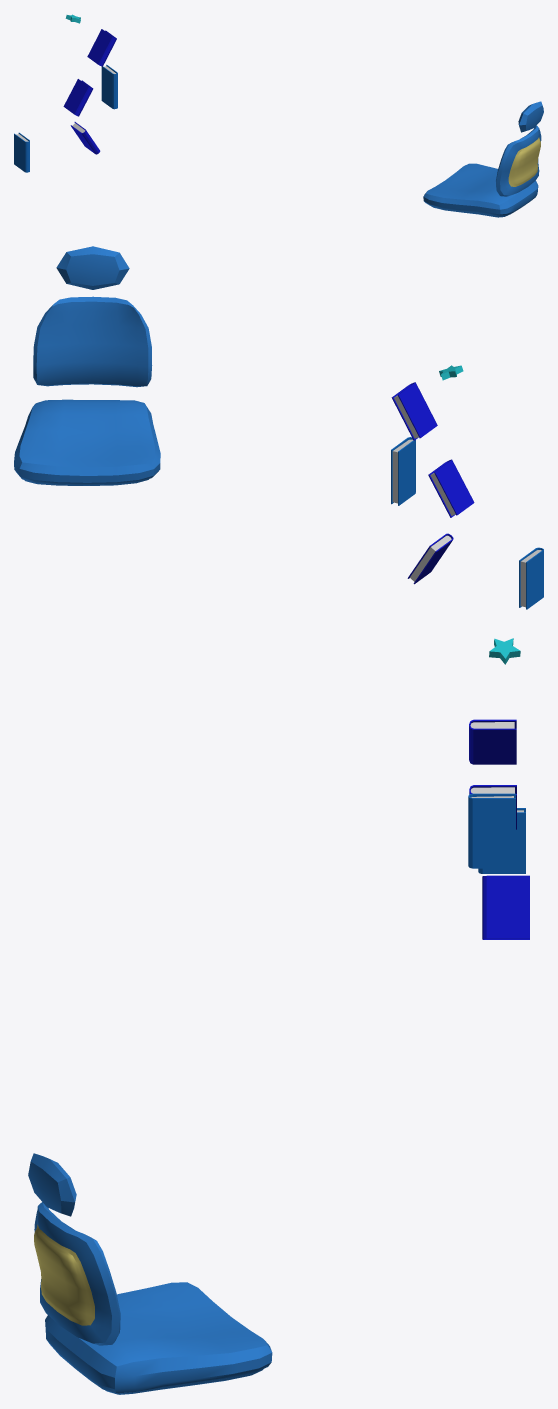
Rendered from room_escape_new_heavy_blue.obj.
3 views of the same model, one above another, from view 1: azimuth 30°, elevation 25°; view 2: azimuth 150°, elevation 25°; view 3: azimuth 270°, elevation 25° (orthographic). The views are drawn at different scales.
Parts seen in each view (by area): view 1: Cube.037_computer_chair, Cube.038_computer_chair, Cube.038_mihuangse, Cube.034_blue_book, Cube.030_heavy_blue, Cube.023_heavy_blue, Cube.039_computer_chair, Cube.009_blue_book, Cube.012_heavy_blue; view 2: Cube.037_computer_chair, Cube.038_computer_chair, Cube.039_computer_chair, Cube.023_heavy_blue, Cube.030_heavy_blue, Cube.034_blue_book, Cube.009_blue_book, Cube.012_heavy_blue; view 3: Cube.037_computer_chair, Cube.038_computer_chair, Cube.034_blue_book, Cube.038_mihuangse, Cube.012_heavy_blue, Cube.039_computer_chair, Cube.023_heavy_blue.
Boxes of the visible parts, left/top/right/bottom form: Cube.037_computer_chair: left=423, top=163, right=538, bottom=217; Cube.038_computer_chair: left=496, top=125, right=541, bottom=196; Cube.038_mihuangse: left=508, top=137, right=540, bottom=186; Cube.034_blue_book: left=101, top=64, right=117, bottom=109; Cube.030_heavy_blue: left=63, top=79, right=93, bottom=116; Cube.023_heavy_blue: left=87, top=29, right=116, bottom=66; Cube.039_computer_chair: left=518, top=101, right=543, bottom=132; Cube.009_blue_book: left=14, top=132, right=29, bottom=172; Cube.012_heavy_blue: left=70, top=122, right=100, bottom=154; Cube.037_computer_chair: left=14, top=399, right=160, bottom=485; Cube.038_computer_chair: left=33, top=296, right=152, bottom=387; Cube.039_computer_chair: left=56, top=246, right=129, bottom=289; Cube.023_heavy_blue: left=391, top=382, right=437, bottom=440; Cube.030_heavy_blue: left=428, top=459, right=474, bottom=517; Cube.034_blue_book: left=391, top=437, right=415, bottom=505; Cube.009_blue_book: left=519, top=547, right=543, bottom=609; Cube.012_heavy_blue: left=407, top=533, right=453, bottom=584; Cube.037_computer_chair: left=45, top=1282, right=272, bottom=1394; Cube.038_computer_chair: left=34, top=1202, right=120, bottom=1345; Cube.034_blue_book: left=468, top=793, right=515, bottom=868; Cube.038_mihuangse: left=34, top=1224, right=94, bottom=1325; Cube.012_heavy_blue: left=482, top=875, right=529, bottom=939; Cube.039_computer_chair: left=28, top=1153, right=76, bottom=1216; Cube.023_heavy_blue: left=469, top=719, right=516, bottom=764.
Size of the model in its own units: 4.7 by 2.16 by 2.42.
